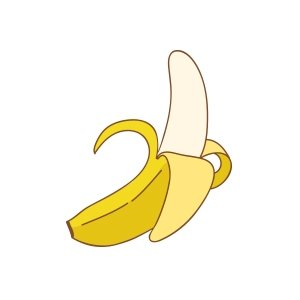banana: (69, 43, 218, 258)
